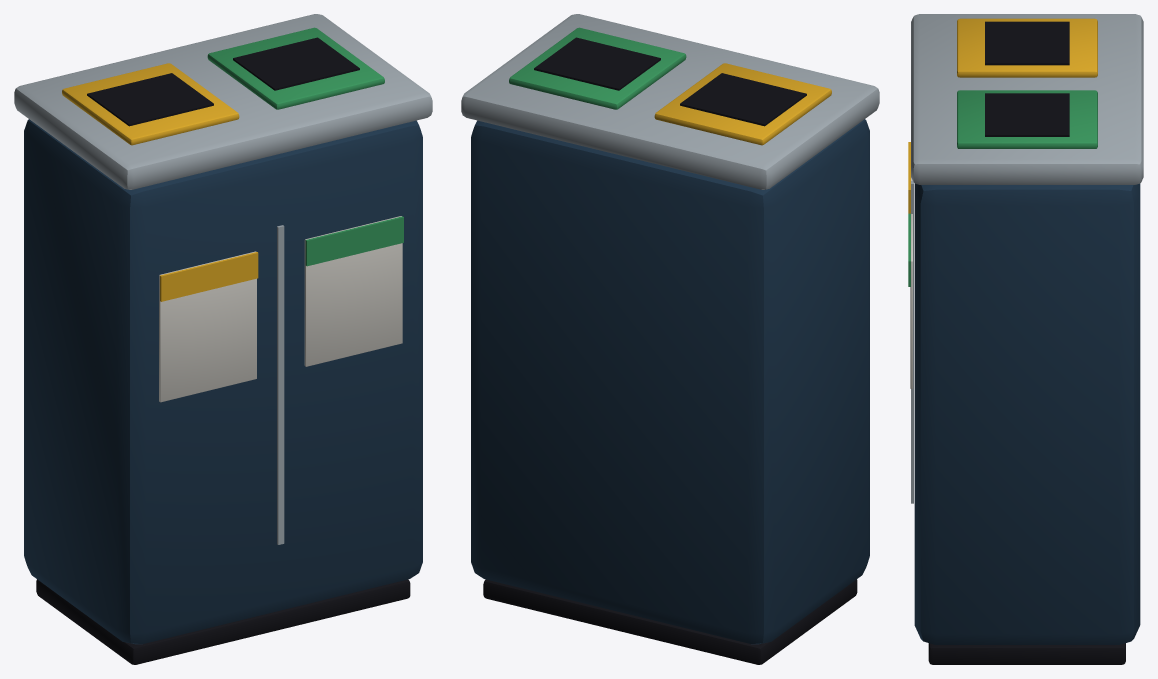
The picture shows the model from 3 angles, left to right: view 1: azimuth 30°, elevation 25°; view 2: azimuth 150°, elevation 25°; view 3: azimuth 270°, elevation 25°; orthographic projection.
Visible parts, largest first — view 1: kit_corridor_bin; view 2: kit_corridor_bin; view 3: kit_corridor_bin.
Boxes of the visible parts, x1,y1,x2,y2 form: kit_corridor_bin: [14, 14, 432, 664]; kit_corridor_bin: [461, 14, 879, 664]; kit_corridor_bin: [908, 14, 1143, 664].
Bounding box in the file's own units: 0.51 × 0.813 × 0.334.
